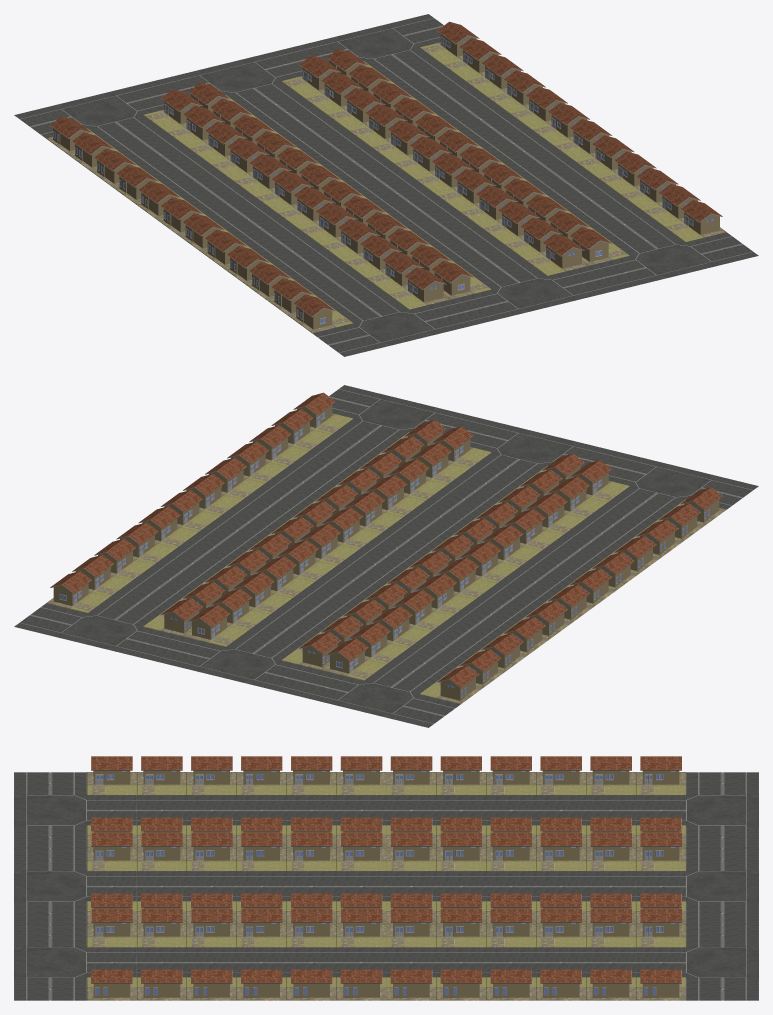
File: uploads_files_3367543_neighbour2.fbx
3 renders of one model, top to bottom at view 1: azimuth 30°, elevation 25°; view 2: azimuth 150°, elevation 25°; view 3: azimuth 270°, elevation 25°, orthographic. The views are drawn at different scales.
Parts seen in each view (by area): view 1: House.003, House.002, House.001, House.009, House.004; view 2: House.003, House.001, House.002, House.004, House.009; view 3: House.001, House.003, House.002, House.009, House.004.
Boxes of the visible parts, x1,y1,x2,y2 form: House.003: (46,89,449,333); House.002: (188,55,587,299); House.001: (326,21,726,265); House.009: (312,232,758,356); House.004: (14,14,443,138); House.003: (323,460,726,704); House.001: (46,392,446,636); House.002: (185,426,584,670); House.004: (14,603,460,727); House.009: (329,385,758,509); House.001: (87,908,685,1000); House.003: (87,756,685,848); House.002: (87,832,685,924); House.009: (14,772,86,1000); House.004: (686,772,758,1000).
Bounding box in the file's own units: 8832 × 422 × 12188.
Materials: 2 (2 with a texture image).
